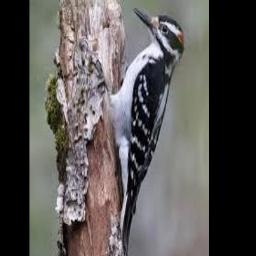Woodpecker: (109, 7, 184, 256)
